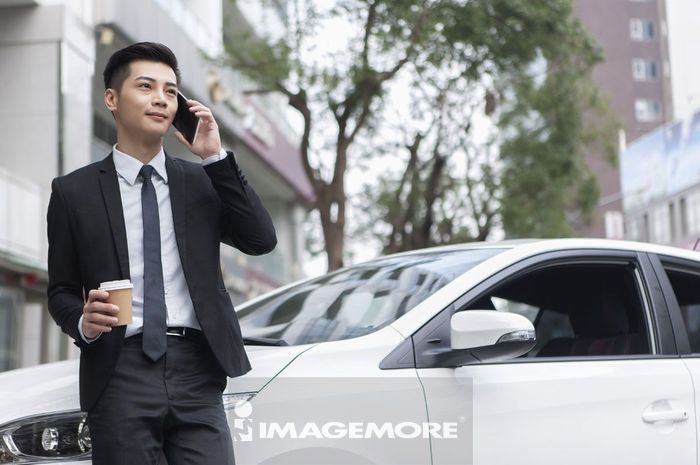phone: (174, 93, 201, 146)
talk: (135, 74, 219, 157)
